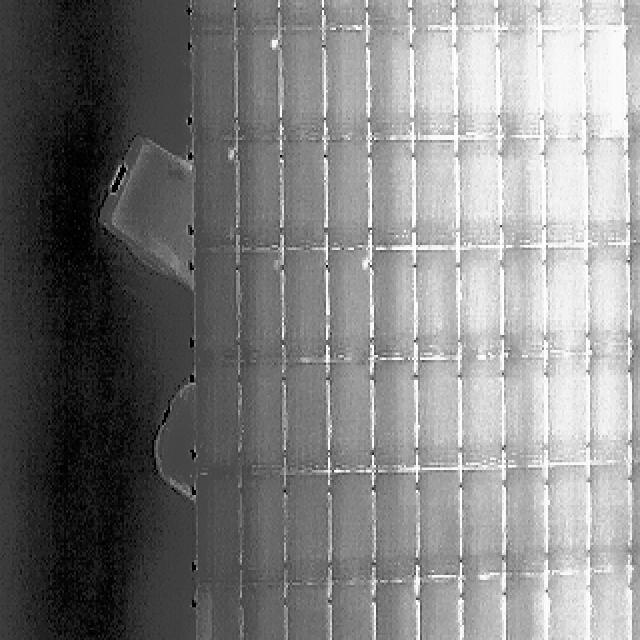Hotspots: (359, 256, 372, 270), (270, 36, 280, 51), (227, 146, 236, 162)
PV-modules: (194, 362, 242, 476), (368, 253, 416, 366), (321, 584, 416, 640), (496, 29, 544, 139), (279, 248, 326, 360), (193, 477, 240, 589), (327, 247, 373, 360), (328, 475, 374, 587), (190, 31, 236, 142), (283, 362, 329, 473), (236, 28, 282, 139), (240, 248, 285, 361), (193, 249, 238, 362), (327, 141, 373, 251), (367, 141, 413, 251), (284, 476, 329, 588), (329, 361, 374, 473), (419, 356, 464, 468), (538, 352, 583, 464), (412, 250, 458, 359), (459, 360, 504, 471), (277, 29, 322, 140), (416, 142, 461, 253), (538, 467, 584, 575), (287, 141, 332, 251), (239, 142, 284, 252), (535, 140, 580, 250), (369, 28, 414, 138), (459, 246, 504, 356), (370, 357, 414, 469), (241, 362, 285, 474), (242, 472, 286, 584), (501, 357, 545, 467), (500, 138, 544, 248), (459, 139, 503, 249), (375, 474, 419, 584), (325, 28, 369, 138), (410, 29, 454, 138), (590, 464, 634, 572), (455, 29, 499, 137), (416, 474, 460, 582), (192, 144, 236, 252), (590, 355, 633, 465), (587, 135, 630, 245), (460, 469, 504, 576), (502, 251, 544, 363), (540, 28, 583, 137), (502, 471, 546, 577), (590, 246, 632, 357), (586, 26, 627, 136), (545, 247, 586, 356), (240, 585, 296, 640), (416, 579, 465, 640), (545, 574, 589, 640), (458, 577, 504, 640), (590, 575, 634, 640), (502, 576, 545, 640), (327, 585, 376, 640), (193, 586, 242, 640), (283, 586, 331, 640), (376, 584, 421, 640), (362, 0, 408, 30), (232, 0, 280, 28), (278, 0, 322, 30), (492, 0, 536, 30), (454, 0, 500, 28), (534, 0, 580, 28), (578, 0, 624, 28), (322, 0, 366, 28), (416, 0, 460, 28), (188, 0, 232, 28)
